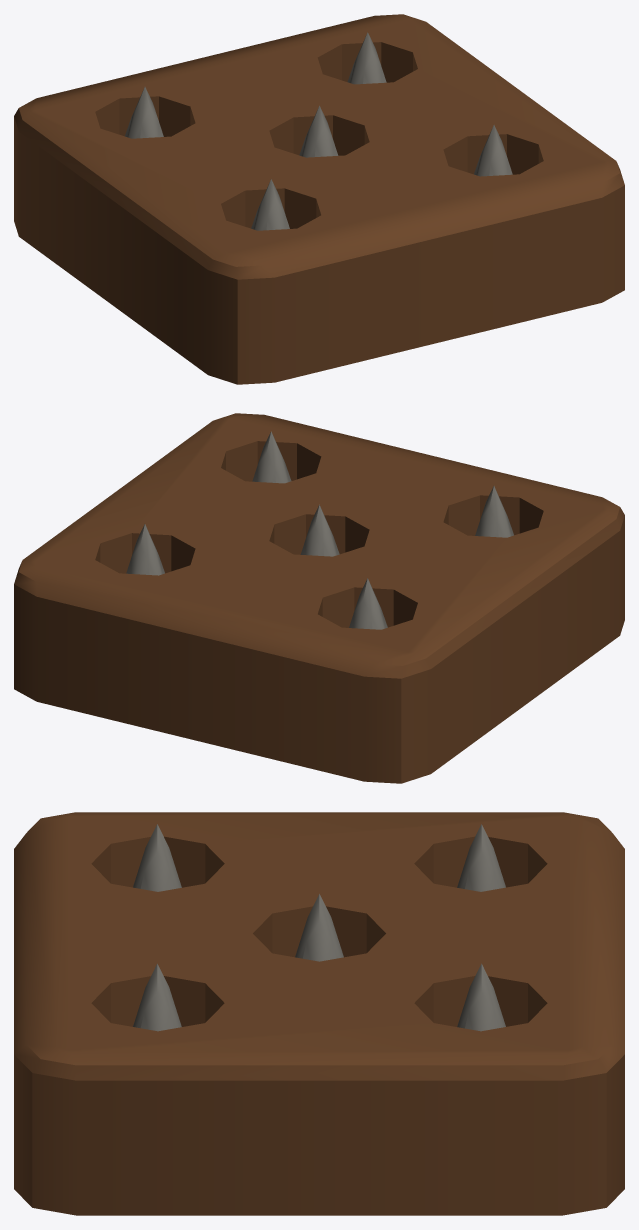
File: cc0-hazard-spike-trap-lod0.glb
3 views of the same model, one above another, from view 1: azimuth 30°, elevation 25°; view 2: azimuth 150°, elevation 25°; view 3: azimuth 270°, elevation 25° (orthographic). The views are drawn at different scales.
Parts seen in each view (by area): view 1: part_1; view 2: part_1; view 3: part_1.
Part boxes in pixels (box(x1,y1,x2,y2)): part_1: box(14, 14, 624, 384); part_1: box(14, 413, 624, 783); part_1: box(14, 812, 624, 1215).
Bounding box in the file's own units: 2 × 0.6968 × 2.
